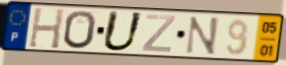9: (225, 18, 252, 57)
H: (27, 6, 66, 51)
N: (183, 15, 221, 57)
O: (62, 9, 98, 51)
U: (99, 9, 146, 54)
Z: (141, 13, 178, 54)
